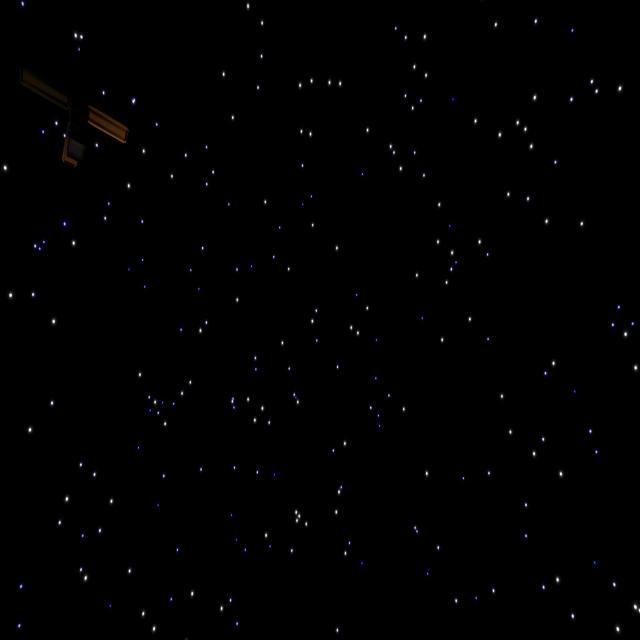medium_debris: (20, 55, 132, 172)
